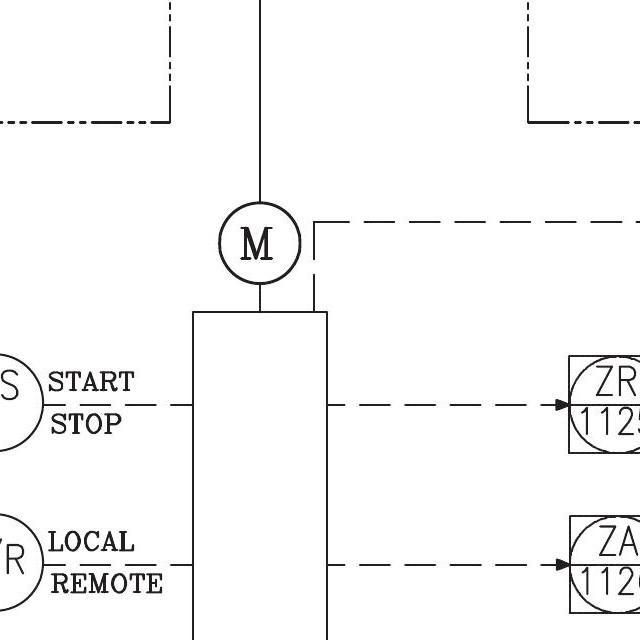M: (216, 200, 306, 285)
